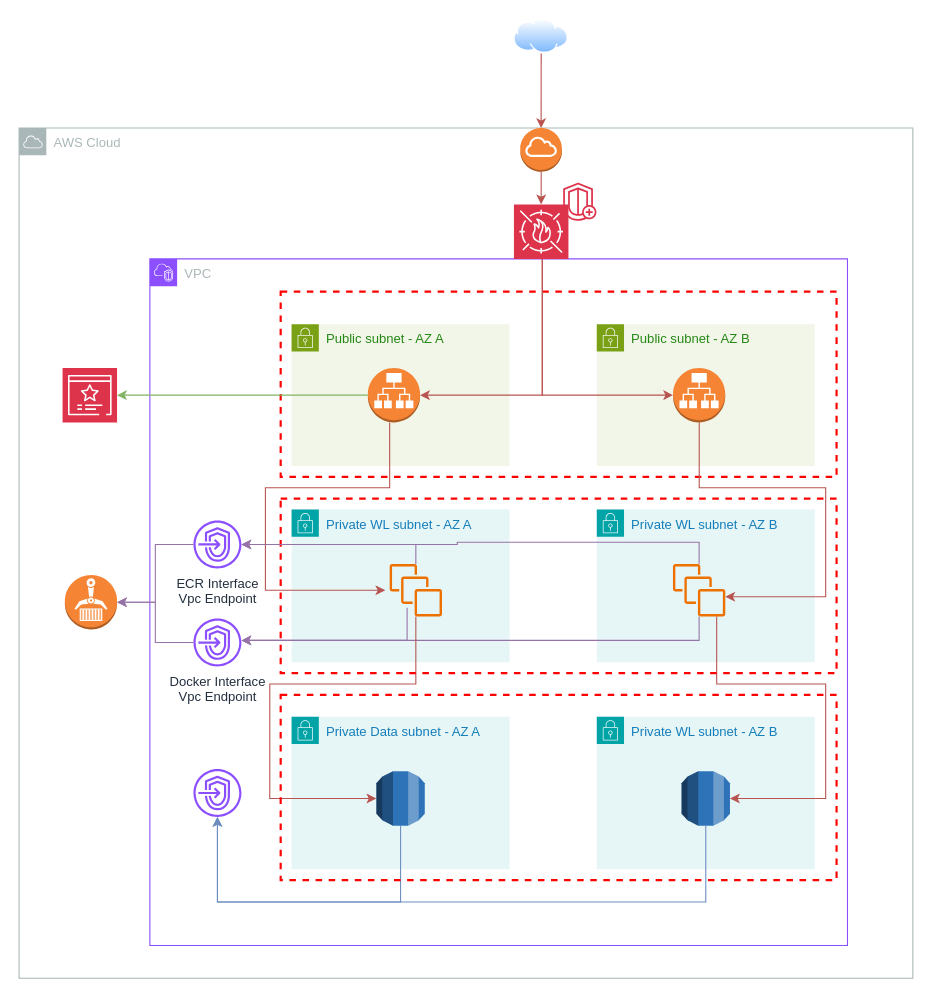
Some shapes in this 932 by 997 pixel diagram are drawn without their labels. The shapes that lost their labels are listed below. From the top down, each one's box as (x1, y1, x2, y2) in pixels, then its label:
(279, 290, 837, 477): Security Group A
(279, 497, 837, 674): Security Group B
(193, 768, 241, 816): RDS Interface Vpc Endpoint
(279, 693, 837, 881): Security Group C
